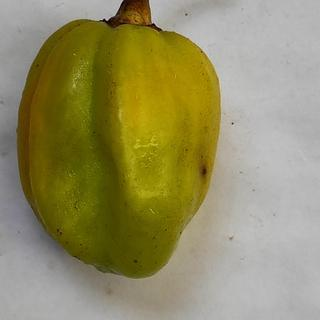Fly-bites: (195, 160, 217, 187), (54, 226, 67, 241), (132, 256, 140, 270)
